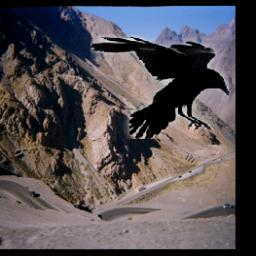Crow: (91, 34, 229, 139)
